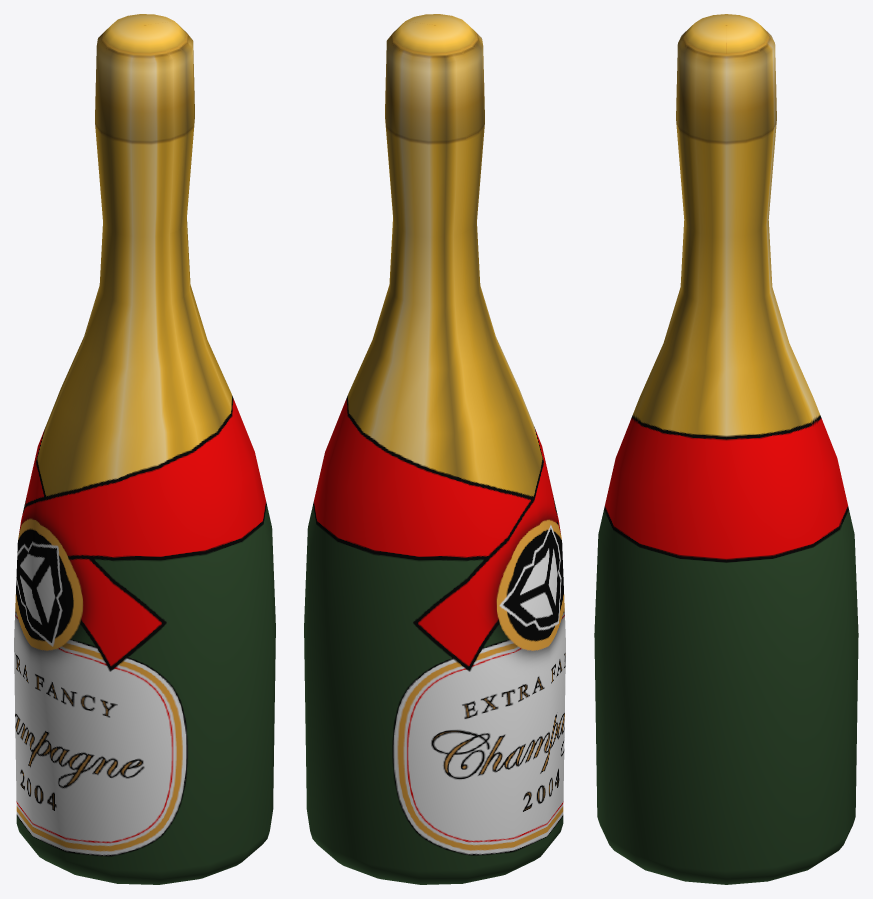
Rendered from champagne bottle.FBX.
3 views of the same model, side by side, from view 1: azimuth 30°, elevation 25°; view 2: azimuth 150°, elevation 25°; view 3: azimuth 270°, elevation 25° (orthographic).
Visible parts, largest first — view 1: champagne bottle; view 2: champagne bottle; view 3: champagne bottle.
Boxes of the visible parts, x1=… form: champagne bottle: x1=14, y1=14, x2=275, y2=884; champagne bottle: x1=304, y1=14, x2=565, y2=884; champagne bottle: x1=594, y1=14, x2=858, y2=884.
Size of the model in its own units: 0.0786 by 0.0786 by 0.2682.
